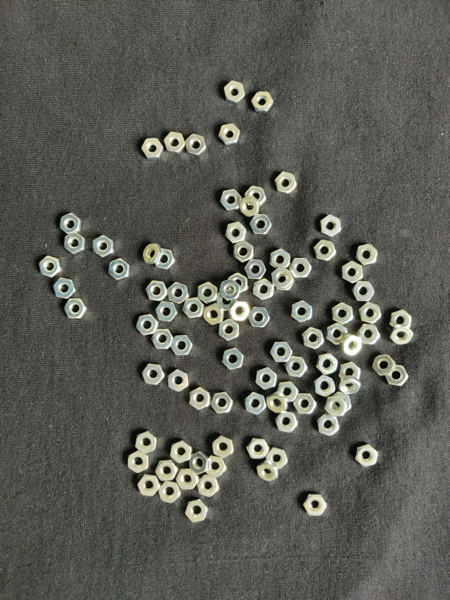nut: (185, 499, 209, 523), (303, 494, 327, 517), (356, 444, 379, 468), (275, 411, 299, 434), (373, 354, 397, 377), (138, 474, 161, 497), (142, 363, 165, 386), (317, 414, 340, 437), (325, 395, 348, 418), (302, 327, 325, 350), (53, 277, 77, 299), (274, 171, 298, 193), (159, 481, 181, 504), (197, 475, 220, 497), (135, 431, 157, 454), (212, 436, 234, 459), (316, 353, 339, 375), (386, 365, 409, 387), (285, 356, 308, 378), (136, 314, 159, 336), (327, 323, 349, 346), (359, 302, 382, 324), (291, 300, 313, 323), (109, 258, 131, 281), (203, 303, 225, 326), (219, 279, 242, 301), (314, 240, 337, 262), (141, 138, 164, 160), (185, 134, 207, 157), (176, 470, 200, 491), (171, 440, 192, 464), (246, 439, 270, 460), (293, 394, 317, 415), (357, 324, 381, 345), (390, 325, 414, 346), (266, 448, 288, 470), (211, 393, 233, 415), (245, 393, 267, 415), (267, 392, 289, 414), (341, 334, 363, 356), (357, 244, 379, 266), (167, 283, 189, 305), (320, 215, 342, 237), (225, 222, 247, 244), (220, 189, 242, 211), (190, 451, 211, 474), (223, 348, 244, 371), (342, 261, 363, 284), (219, 319, 240, 342), (248, 307, 271, 328), (93, 235, 114, 258), (65, 232, 86, 255), (272, 267, 293, 290), (219, 123, 240, 146), (224, 81, 245, 104), (190, 387, 210, 411), (128, 451, 149, 473), (257, 461, 279, 482), (168, 370, 189, 392), (277, 382, 299, 403), (315, 376, 336, 398), (256, 368, 277, 390), (271, 342, 293, 363), (171, 335, 193, 356), (152, 329, 174, 350), (332, 303, 353, 325), (353, 281, 375, 302), (39, 257, 61, 278), (146, 281, 168, 302), (183, 298, 205, 319), (197, 282, 218, 304), (164, 132, 185, 154), (252, 92, 274, 113), (339, 376, 362, 396), (155, 302, 178, 322), (61, 214, 82, 235), (229, 301, 250, 322), (156, 461, 178, 481), (65, 299, 87, 319), (217, 290, 237, 312), (245, 260, 267, 280), (290, 258, 312, 278), (234, 241, 254, 263), (251, 215, 273, 235), (239, 195, 259, 217), (245, 186, 267, 206), (332, 392, 352, 413), (143, 244, 163, 265), (155, 249, 175, 270), (228, 273, 248, 294), (254, 279, 274, 300), (390, 310, 413, 328), (206, 457, 226, 477), (271, 249, 291, 269), (339, 362, 361, 380), (276, 275, 295, 290)
